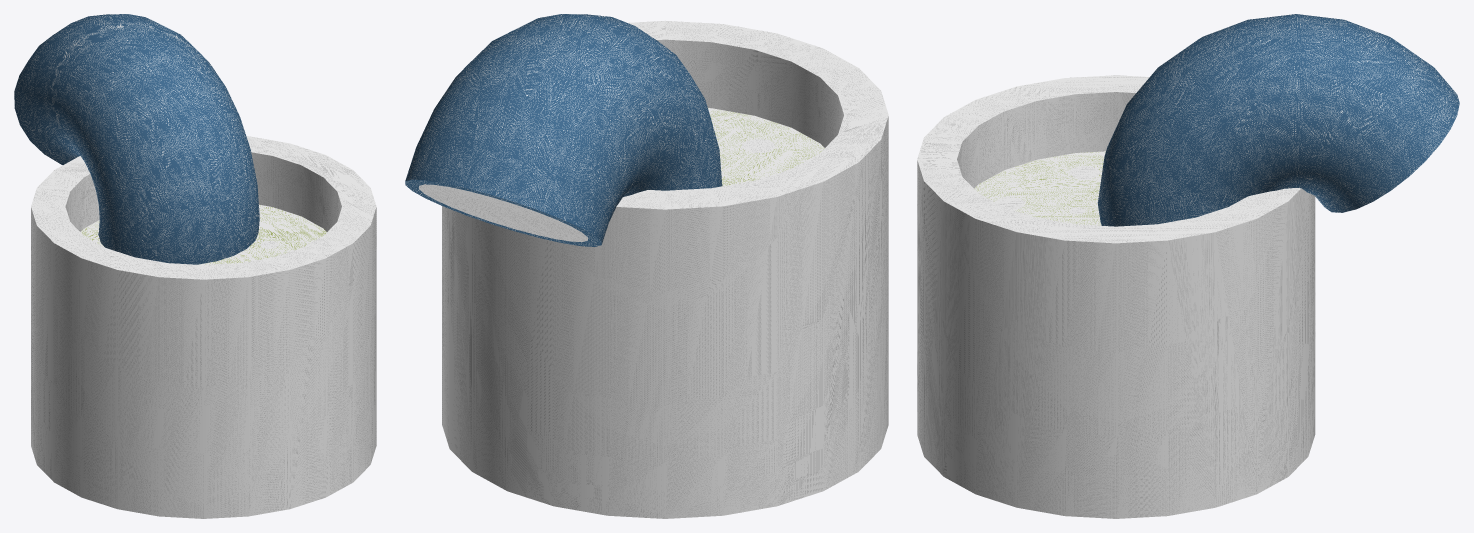
The picture shows the model from 3 angles, left to right: view 1: azimuth 30°, elevation 25°; view 2: azimuth 150°, elevation 25°; view 3: azimuth 270°, elevation 25°; orthographic projection. The views are drawn at different scales.
Parts seen in each view (by area): view 1: mesh2_mesh2-geometry, mesh1_mesh1-geometry; view 2: mesh2_mesh2-geometry, mesh1_mesh1-geometry; view 3: mesh2_mesh2-geometry, mesh1_mesh1-geometry.
Boxes of the visible parts, bbox=[...] form: mesh2_mesh2-geometry: bbox=[31, 136, 376, 518]; mesh1_mesh1-geometry: bbox=[14, 14, 259, 264]; mesh2_mesh2-geometry: bbox=[442, 20, 888, 518]; mesh1_mesh1-geometry: bbox=[405, 14, 722, 246]; mesh2_mesh2-geometry: bbox=[917, 75, 1315, 518]; mesh1_mesh1-geometry: bbox=[1097, 14, 1459, 226].
Size of the model in its own units: 0.489 by 0.5626 by 0.6666.
